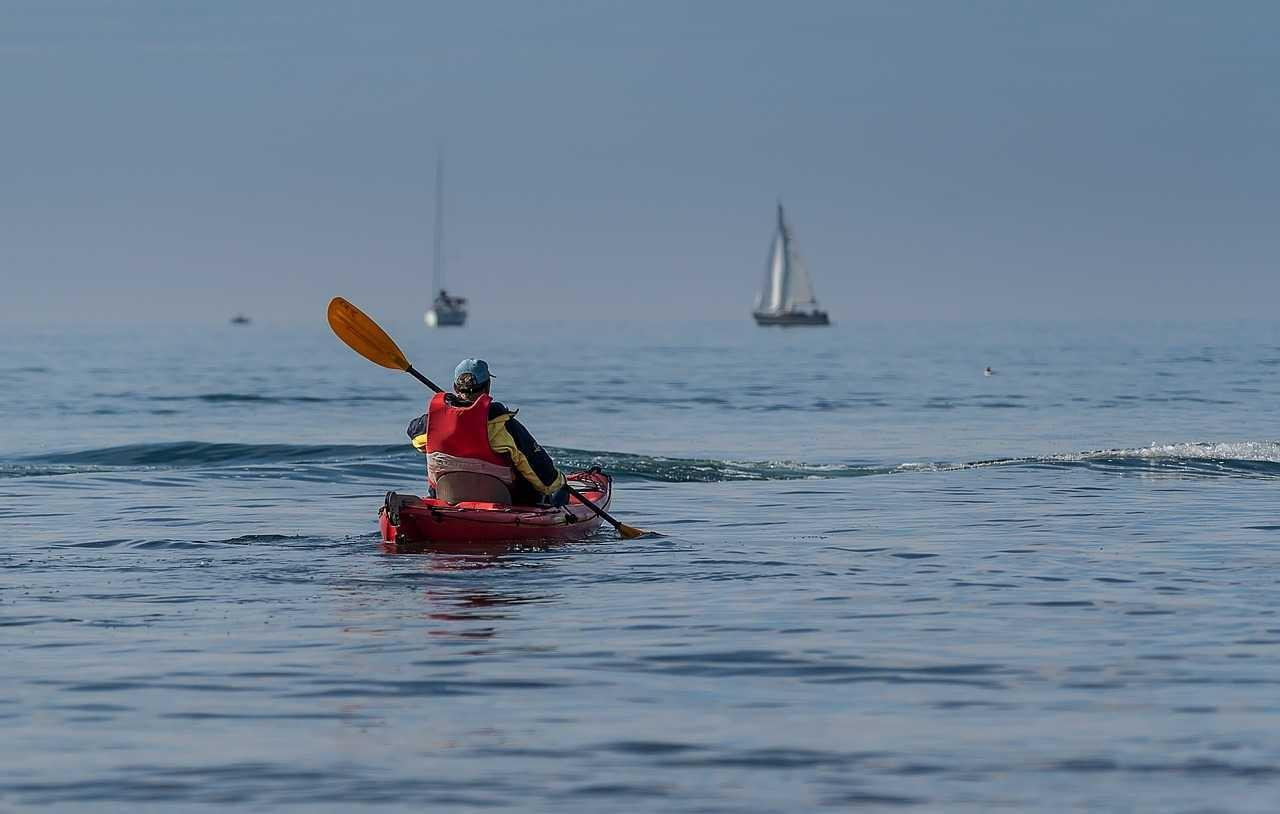kayak: (377, 466, 650, 548), (750, 198, 832, 326), (424, 136, 471, 327)
